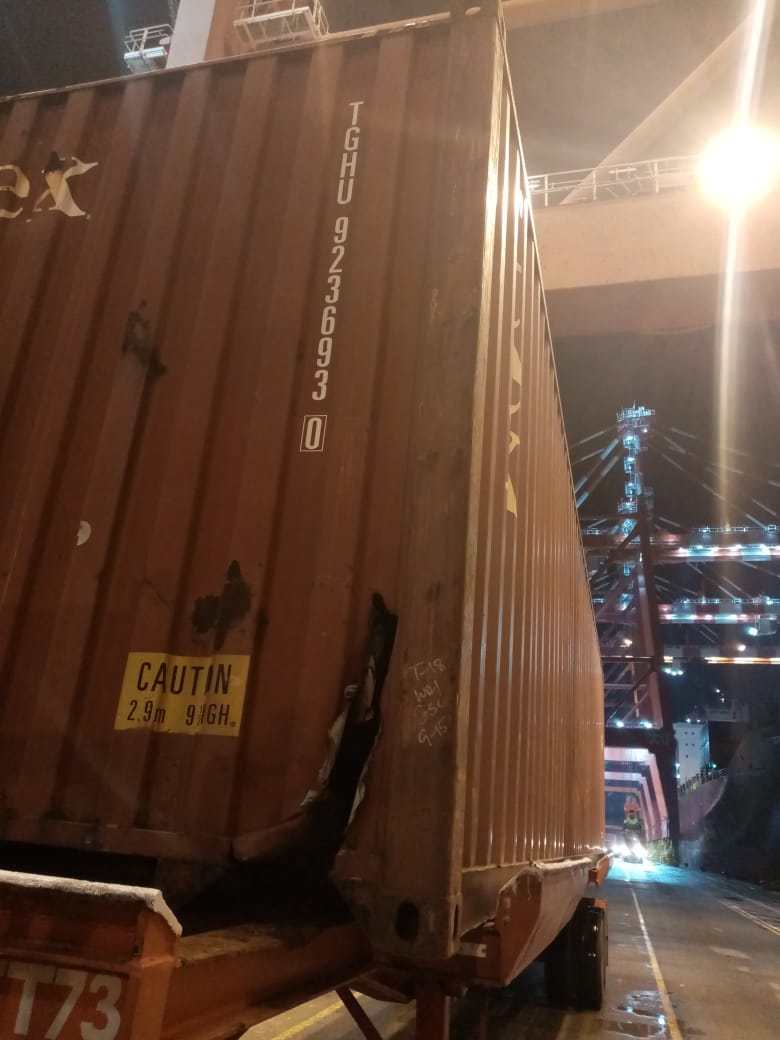front_side: (1, 1, 451, 945)
left_side: (435, 15, 617, 944)
